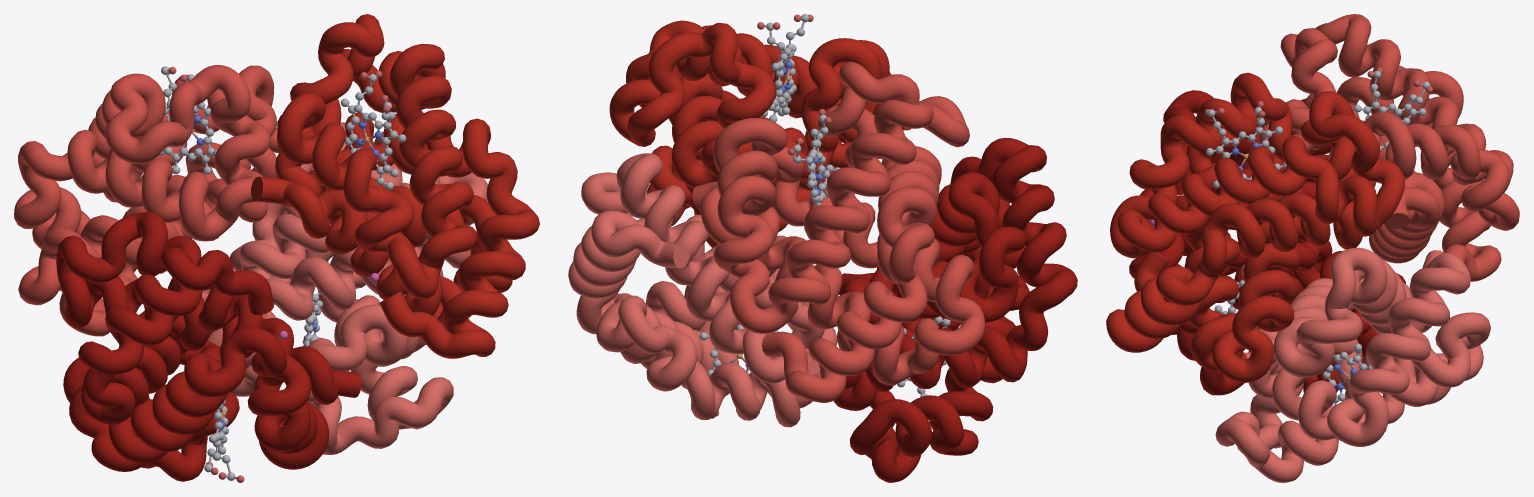
File: 4HHB_hemoglobin.glb
3 views of the same model, side by side, from view 1: azimuth 30°, elevation 25°; view 2: azimuth 150°, elevation 25°; view 3: azimuth 270°, elevation 25° (orthographic). The views are drawn at different scales.
Visible parts, largest first — view 1: 4HHB_export; view 2: 4HHB_export; view 3: 4HHB_export.
Boxes of the visible parts, left/top/right/bottom form: 4HHB_export: left=14, top=14, right=539, bottom=482; 4HHB_export: left=568, top=14, right=1077, bottom=482; 4HHB_export: left=1106, top=14, right=1519, bottom=482.
Size of the model in its own units: 0.6565 by 0.5759 by 0.5632.
